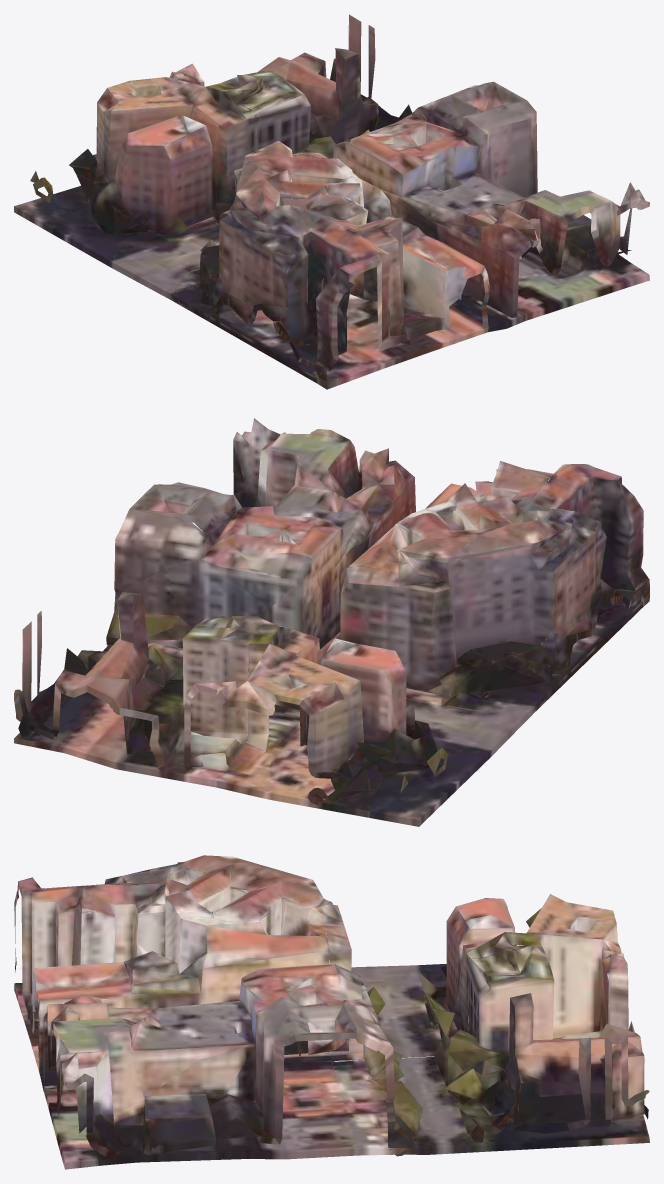
3 views of the same model, one above another, from view 1: azimuth 30°, elevation 25°; view 2: azimuth 150°, elevation 25°; view 3: azimuth 270°, elevation 25° (orthographic). The views are drawn at different scales.
Parts seen in each view (by area): view 1: Mesh_0; view 2: Mesh_0; view 3: Mesh_0.
Part boxes in pixels (x1=…): Mesh_0: x1=14, y1=14, x2=649, y2=389; Mesh_0: x1=14, y1=418, x2=649, y2=826; Mesh_0: x1=14, y1=855, x2=649, y2=1169.
Bounding box in the file's own units: 133 × 44.06 × 165.
1 material, 1 textured.
